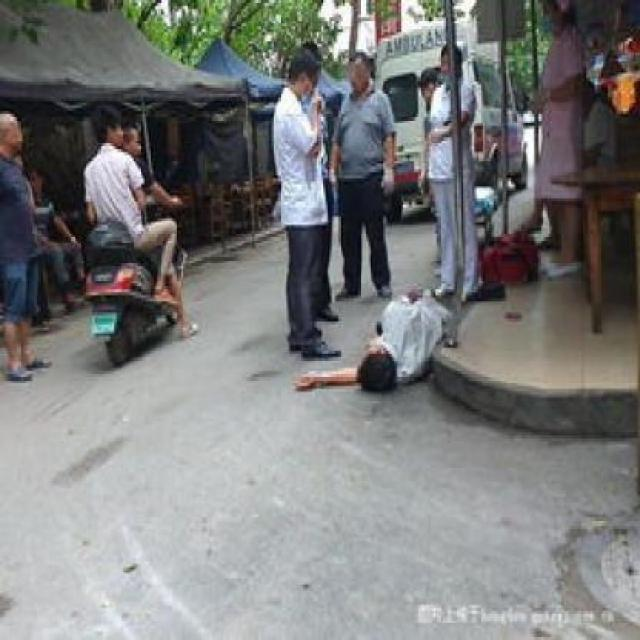fall: (293, 271, 465, 404)
